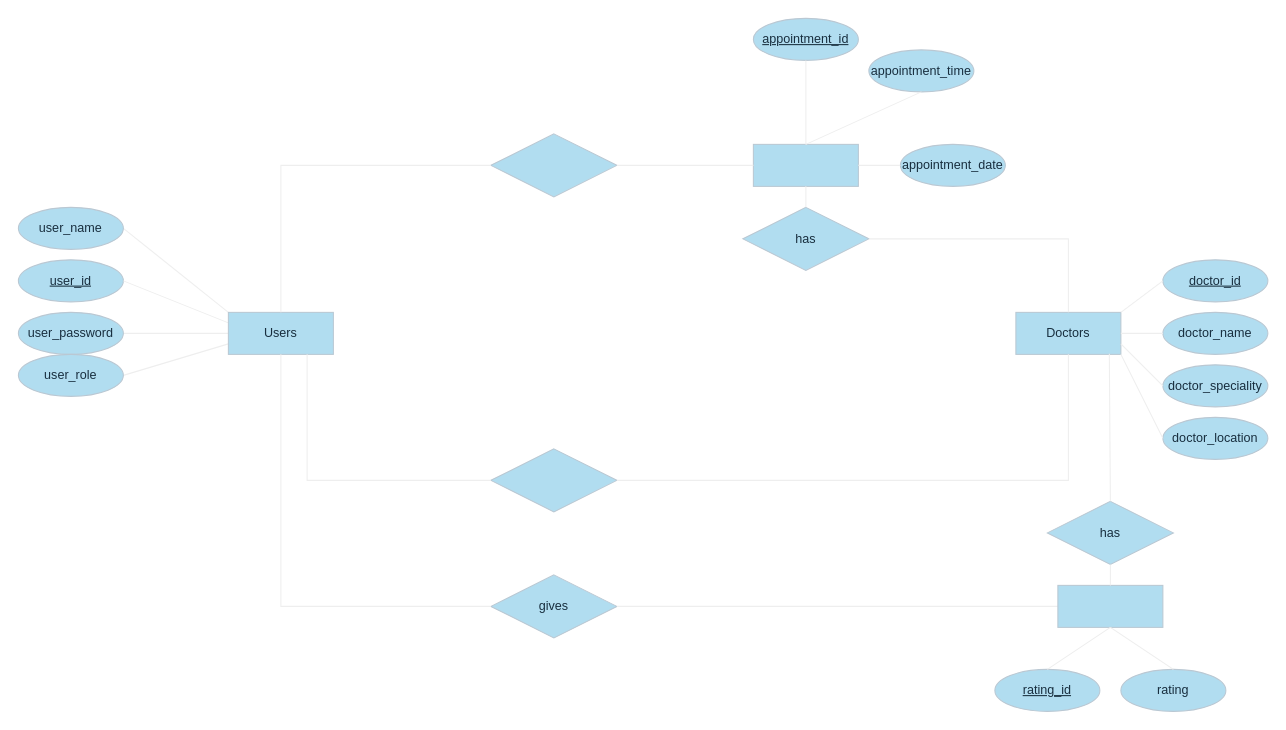
Some shapes in this 1286 by 730 pixel diagram are drawn without their labels. The centre of each missing label's shape, as x and y in pixels:
"Appointments" goes at point 805,164.
"Books" goes at point 553,165.
"modifies" goes at point 553,480.
"Ratings" goes at point 1110,605.
